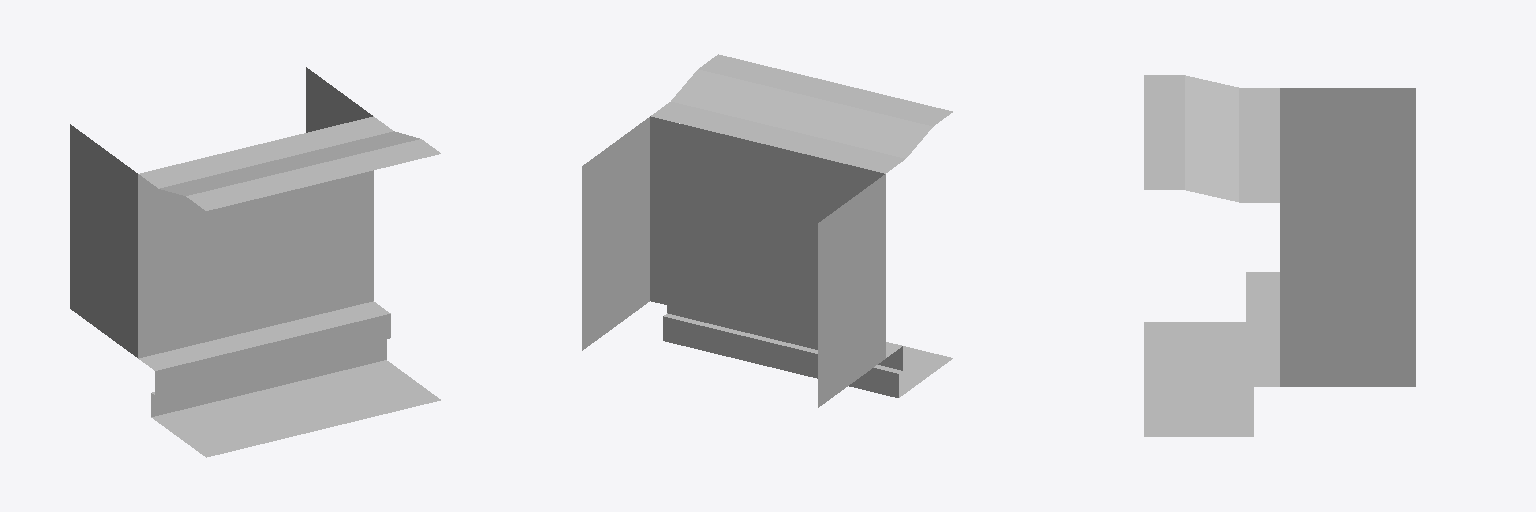
3 views of the same model, side by side, from view 1: azimuth 30°, elevation 25°; view 2: azimuth 150°, elevation 25°; view 3: azimuth 270°, elevation 25° (orthographic).
Parts seen in each view (by area): view 1: objobjobjDuplicate01; view 2: objobjobjDuplicate01; view 3: objobjobjDuplicate01.
Boxes of the visible parts, x1,y1,x2,y2 form: objobjobjDuplicate01: [70, 67, 440, 457]; objobjobjDuplicate01: [582, 54, 952, 407]; objobjobjDuplicate01: [1144, 75, 1415, 436].
Size of the model in its own units: 10 by 10 by 10.